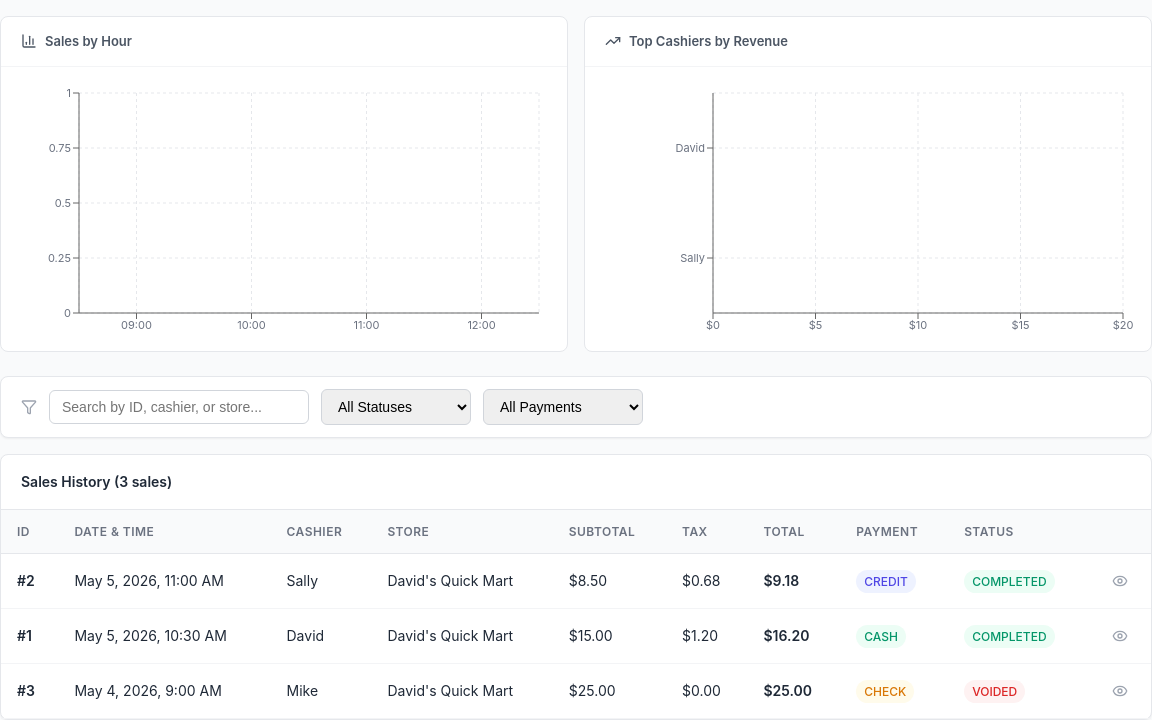
Scenario: Reports › shows empty state when no sales match filters
(page scrolled)
Expected: the text "#1" is shown, [1,609,58,664]
In the field with placeholder "Search by ID, cashier, or store...": (179, 407) [49,390,309,424], type "nonexistent"
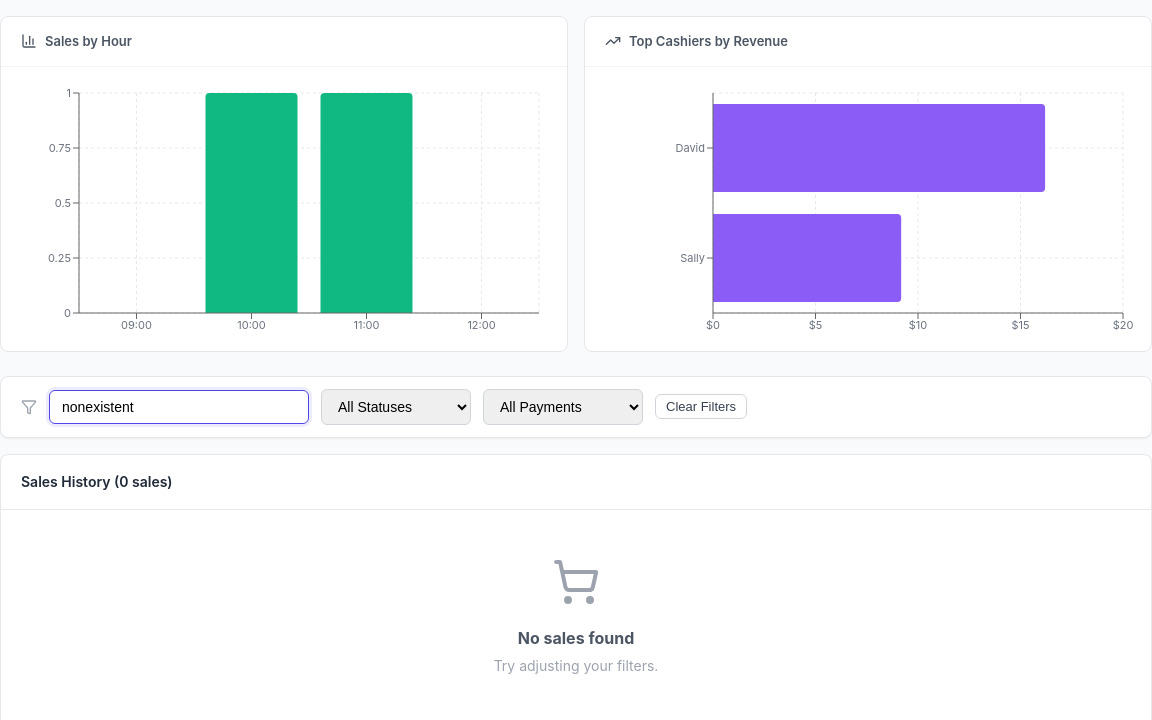
Now the heading "No sales found" is shown, box [518,628,634,648]
Now the text "Try adjusting your filters." is shown, box [494,657,658,674]
